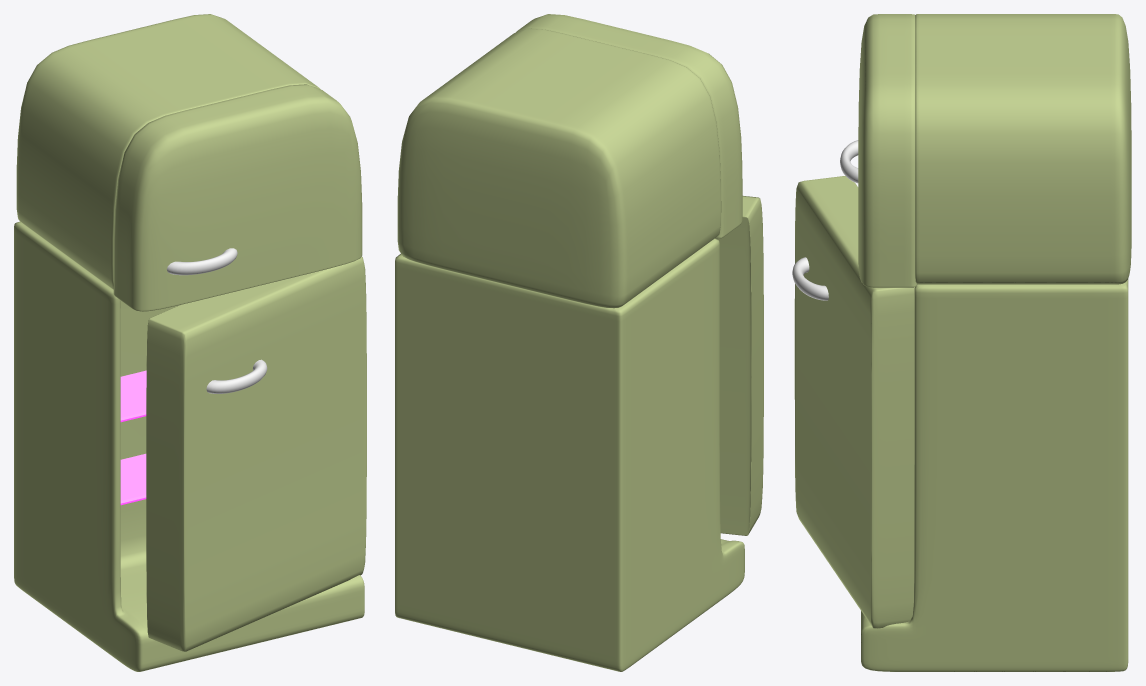
The model's file is retroFridge.fbx.
The picture shows the model from 3 angles, left to right: view 1: azimuth 30°, elevation 25°; view 2: azimuth 150°, elevation 25°; view 3: azimuth 270°, elevation 25°; orthographic projection. The views are drawn at different scales.
Visible parts, largest first — view 1: Plane.003, Plane, Plane.002, Plane.001, Plane.006, Plane.005, Torus, Torus.001; view 2: Plane, Plane.001, Plane.003, Plane.002; view 3: Plane, Plane.001, Plane.003, Plane.002, Torus.001, Torus.
Boxes of the visible parts, x1=… form: Plane.003: x1=146, y1=257, x2=366, y2=651; Plane: x1=14, y1=221, x2=364, y2=671; Plane.002: x1=113, y1=84, x2=362, y2=311; Plane.001: x1=16, y1=14, x2=319, y2=289; Plane.006: x1=120, y1=370, x2=146, y2=422; Plane.005: x1=120, y1=453, x2=146, y2=505; Torus: x1=167, y1=248, x2=237, y2=275; Torus.001: x1=206, y1=359, x2=267, y2=393; Plane: x1=395, y1=238, x2=744, y2=671; Plane.001: x1=397, y1=28, x2=721, y2=308; Plane.003: x1=715, y1=196, x2=763, y2=535; Plane.002: x1=516, y1=14, x2=742, y2=238; Plane: x1=861, y1=279, x2=1128, y2=671; Plane.001: x1=915, y1=14, x2=1131, y2=284; Plane.003: x1=794, y1=176, x2=914, y2=628; Plane.002: x1=858, y1=14, x2=916, y2=287; Torus.001: x1=792, y1=257, x2=828, y2=300; Torus: x1=840, y1=140, x2=858, y2=183.
Size of the model in its own units: 77.65 by 169 by 92.24.
